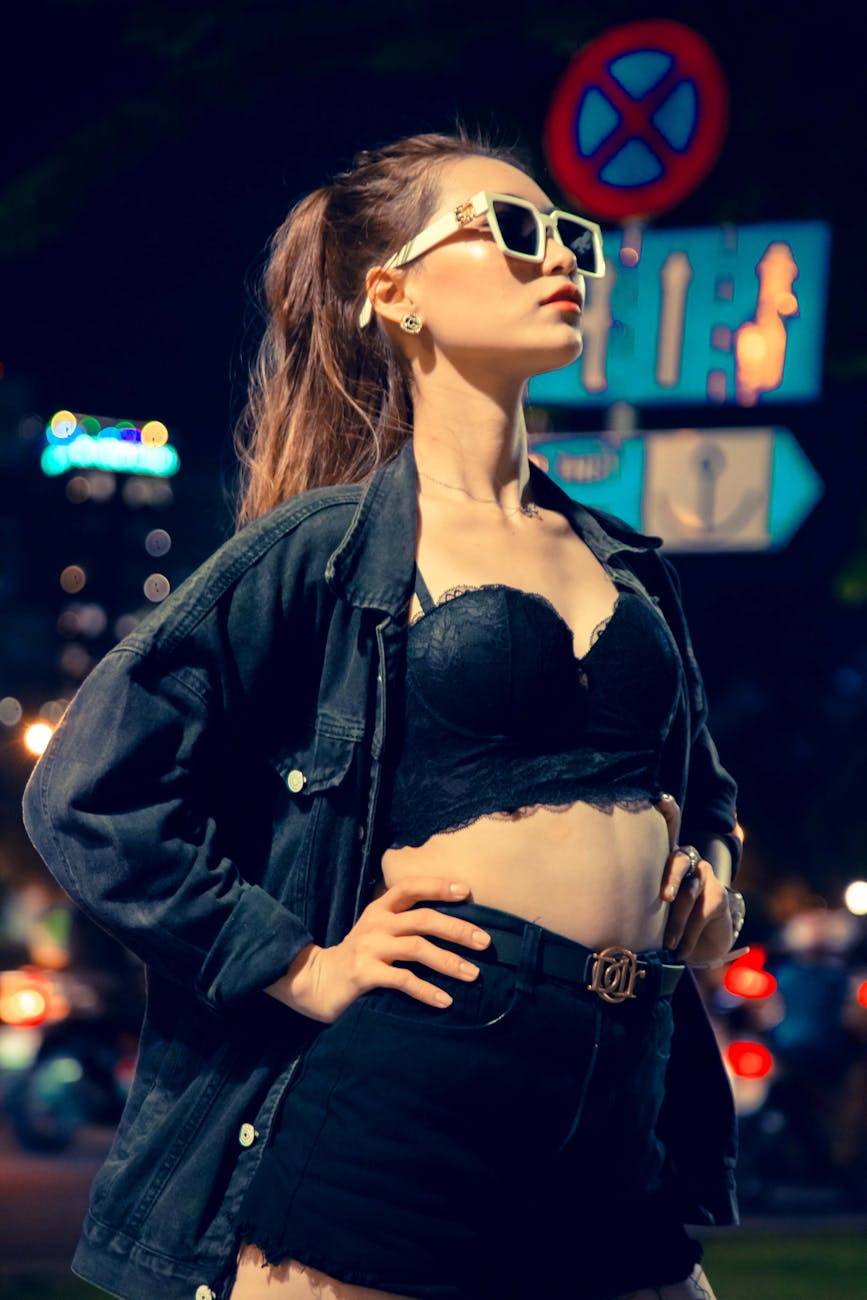crop_top: (294, 514, 760, 843)
shorts: (216, 890, 744, 1300)
